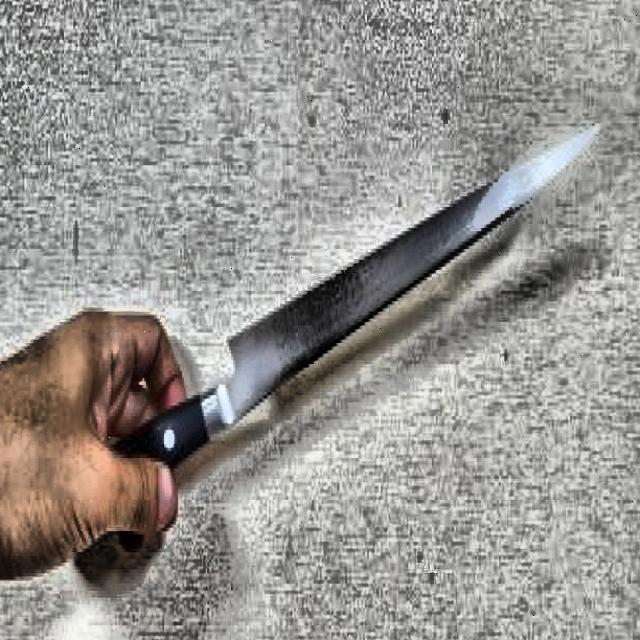knife: (110, 116, 605, 494)
